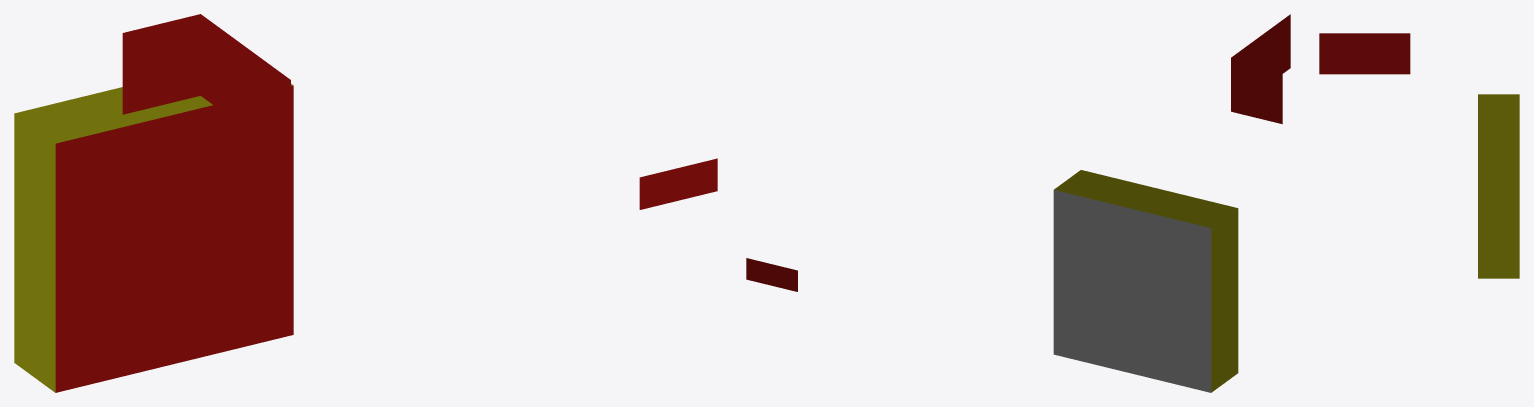
The model's file is idf.obj.
3 views of the same model, side by side, from view 1: azimuth 30°, elevation 25°; view 2: azimuth 150°, elevation 25°; view 3: azimuth 270°, elevation 25° (orthographic). The views are drawn at different scales.
Bounding box in the file's own units: 45 × 25 × 22.
